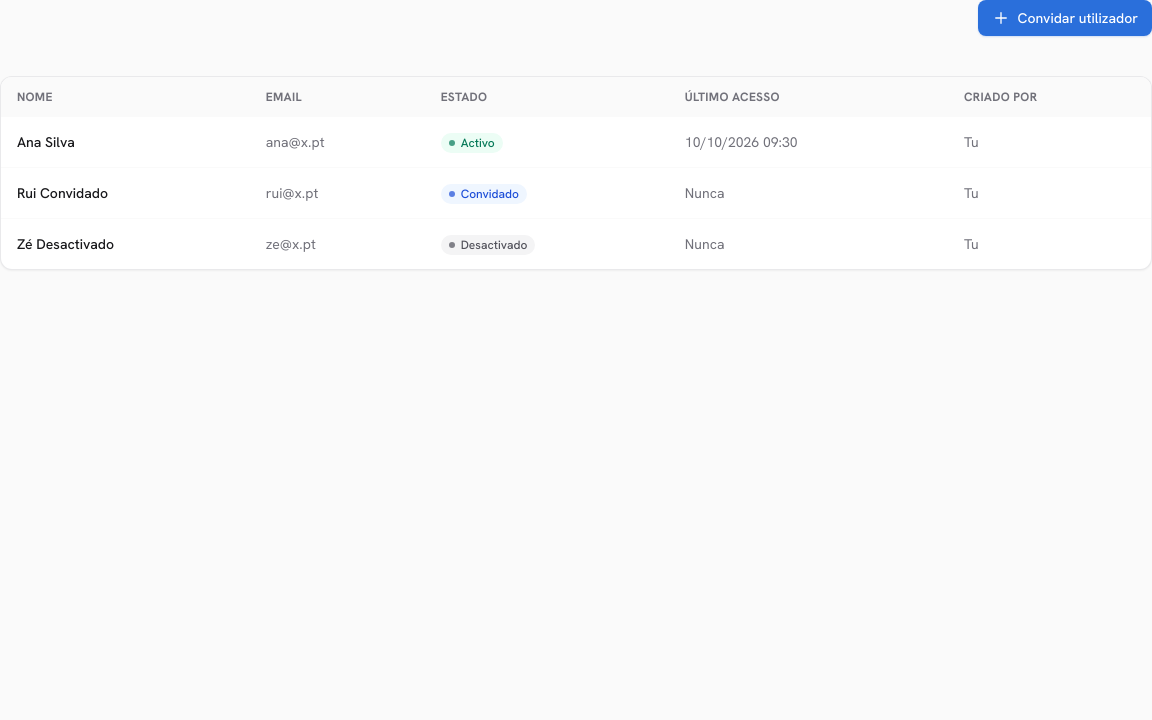
it: Equipa — convidar › a árvore abre vazia e colapsada; os topos mostram o estado; o módulo que o plano não inclui nem aparece
Click the button "Convidar utilizador" at (1065, 18), box [978,0,1151,36]
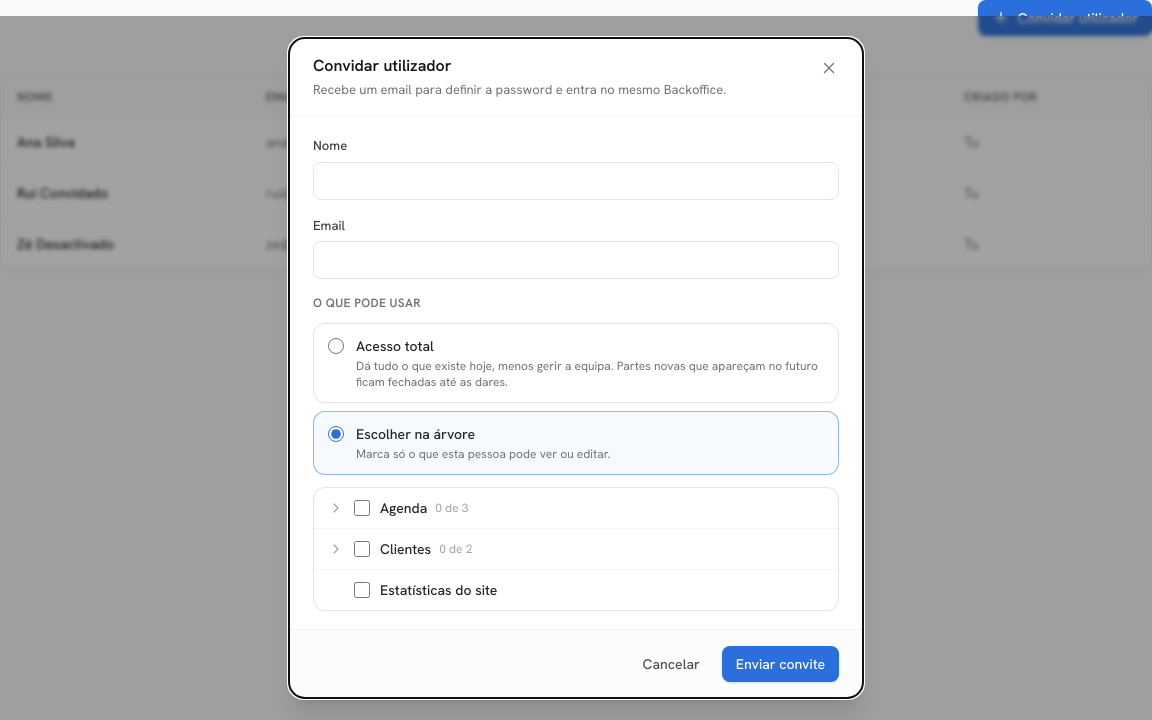
Expected: the checkbox labelled "Serviços" is not shown
Now the checkbox labelled "Agenda" is not checked, box [354,500,370,516]
Click the button named "Abrir Agenda" at (336, 508), box [326,498,346,518]
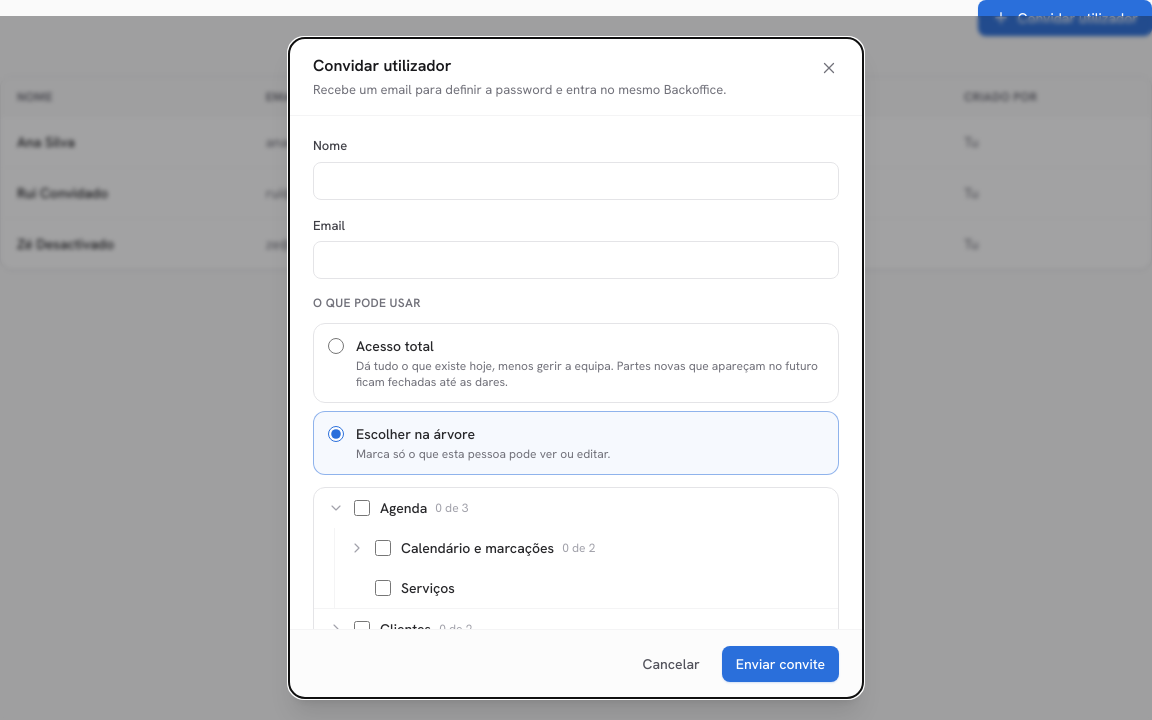
Now the checkbox labelled "Serviços" is shown, box [375,580,391,596]
